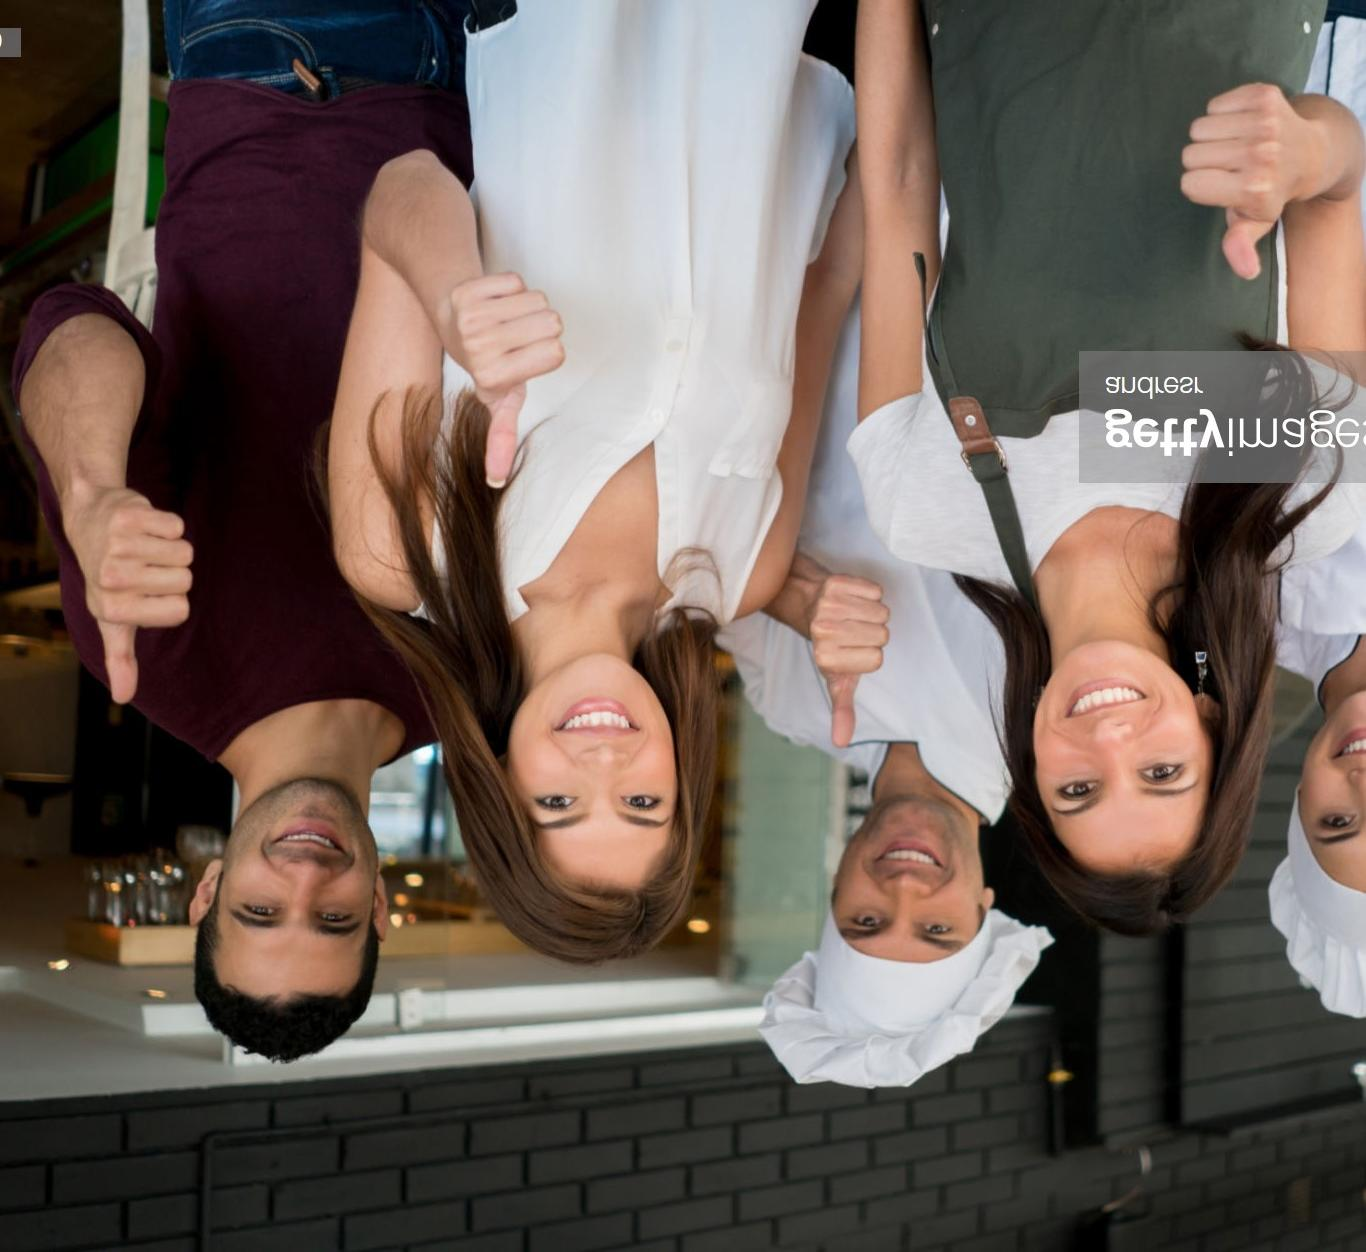thumbsdown: (449, 270, 568, 489), (90, 503, 196, 705), (1180, 83, 1285, 280), (808, 575, 891, 749)
